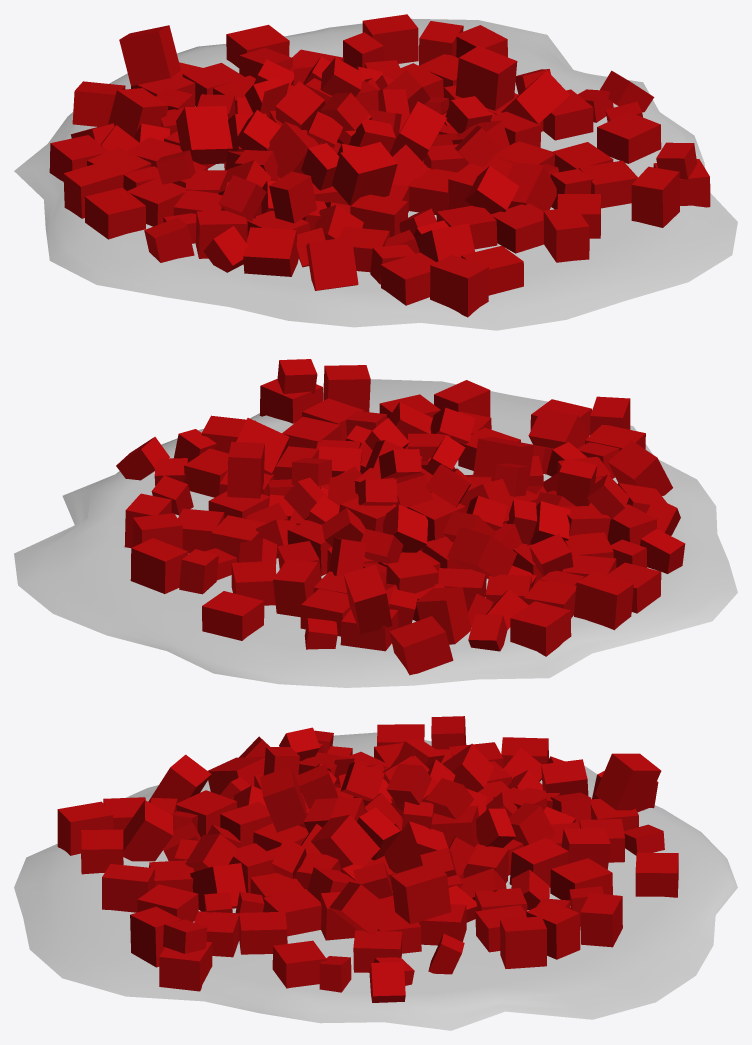
File: TomatoDiced2.fbx
The picture shows the model from 3 angles, top to bottom: view 1: azimuth 30°, elevation 25°; view 2: azimuth 150°, elevation 25°; view 3: azimuth 270°, elevation 25°; orthographic projection. The views are drawn at different scales.
Parts seen in each view (by area): view 1: Icosphere.050; view 2: Icosphere.050; view 3: Icosphere.050.
Part boxes in pixels (x1,y1,x2,y2): Icosphere.050: [14, 14, 737, 330]; Icosphere.050: [14, 359, 737, 687]; Icosphere.050: [14, 716, 737, 1030].
Bounding box in the file's own units: 216 × 39.22 × 222.
